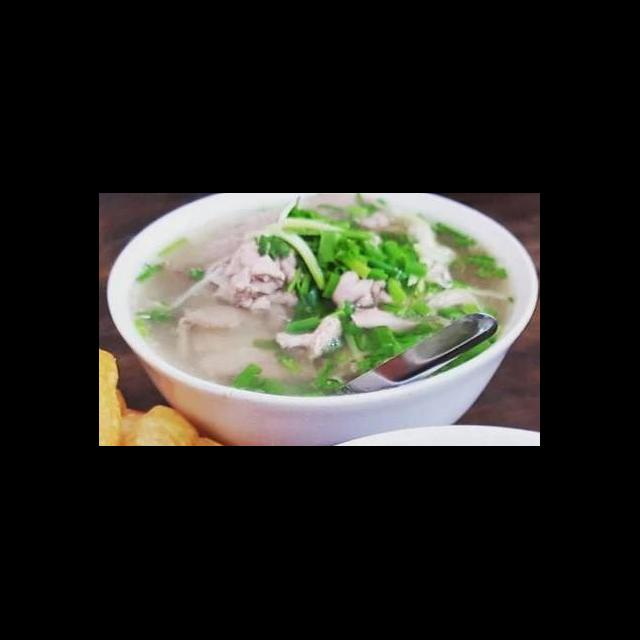thit bo: (326, 266, 482, 338), (208, 234, 306, 318)
